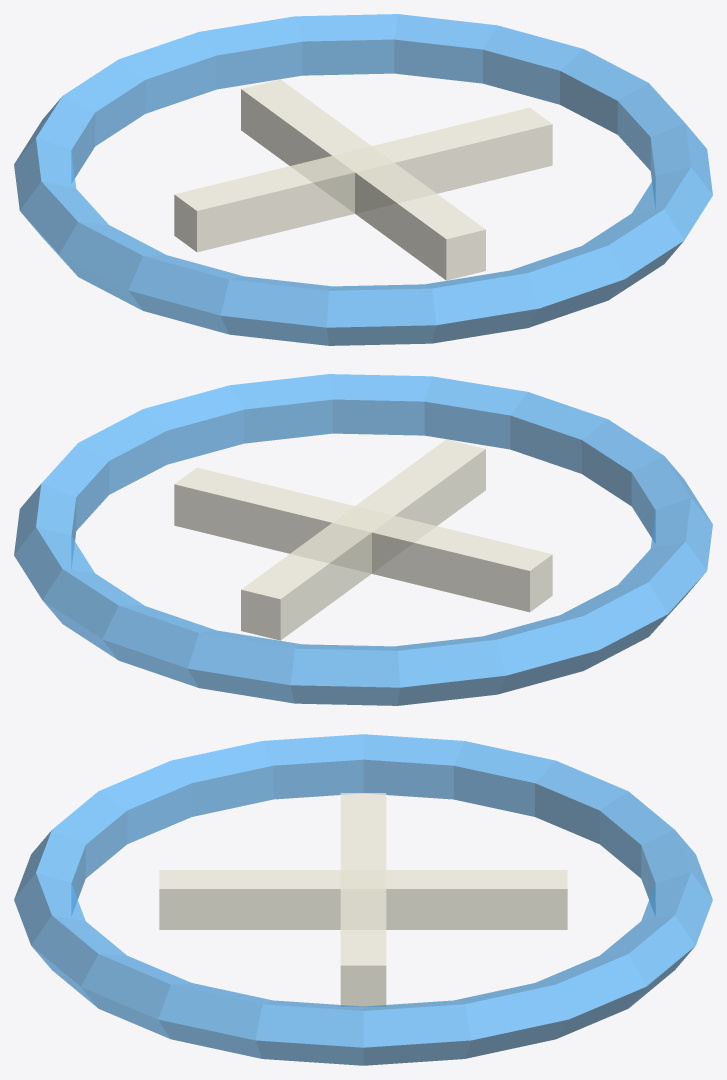
The model's file is telegraph_counter_prompt_marker.glb.
3 renders of one model, top to bottom at view 1: azimuth 30°, elevation 25°; view 2: azimuth 150°, elevation 25°; view 3: azimuth 270°, elevation 25°, orthographic.
Parts seen in each view (by area): view 1: ring, bar_a, bar_b; view 2: ring, bar_a, bar_b; view 3: ring, bar_b, bar_a.
Boxes of the visible parts, x1,y1,x2,y2 form: ring: (14,14,712,345); bar_a: (174,107,552,252); bar_b: (241,79,485,280); ring: (14,374,712,705); bar_a: (174,467,552,612); bar_b: (241,439,485,640); ring: (14,734,712,1065); bar_b: (159,870,567,929); bar_a: (340,793,386,1006).
Bounding box in the file's own units: 0.77 × 0.0666 × 0.77.
